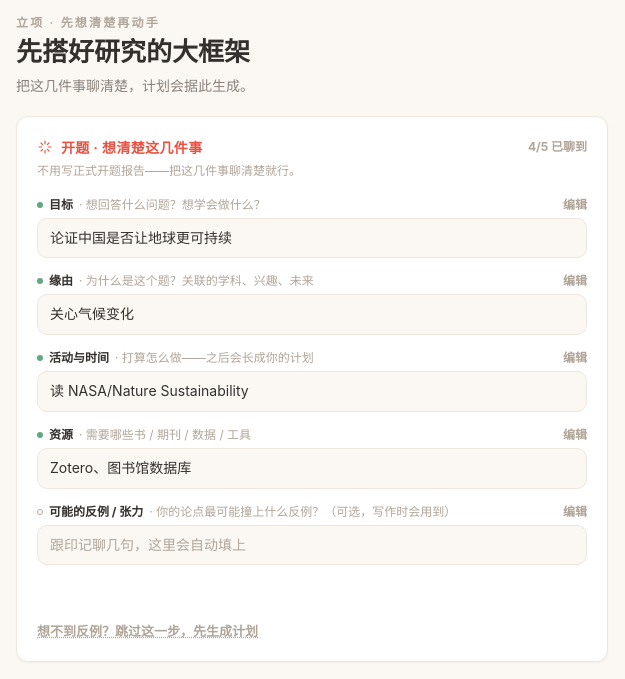
Test: PlanBlock · forming coach on the shared AiPanel (Task 5) › Round 3: reframed as research-framing — no 让印记看看我的开题/导出开题报告 buttons, DimFields still work
(page scrolled)
Expected: the heading "先搭好研究的大框架" is shown, left=16, top=36, right=250, bottom=67
Click the button "编辑" in the row of "想回答什么问题？想学会做什么？".
click(575, 204)  # box left=563, top=196, right=587, bottom=214
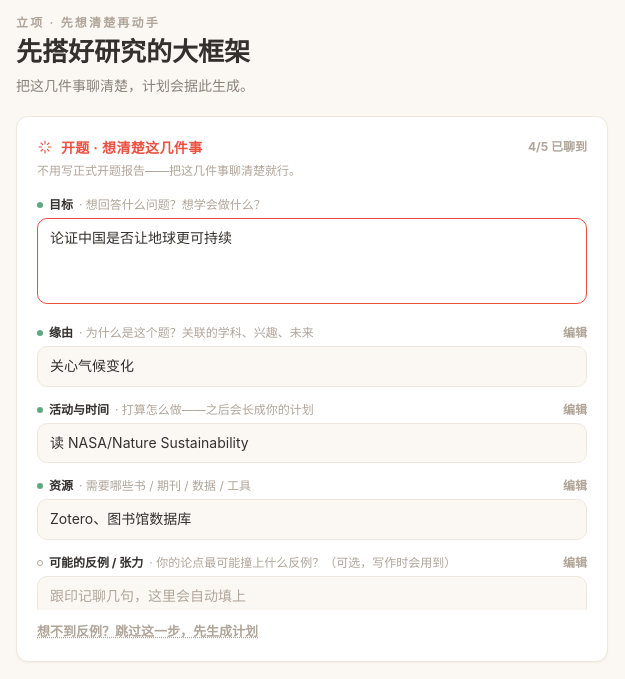
Now the text box with placeholder "跟印记聊几句，这里会自动填上" is shown, box left=37, top=218, right=587, bottom=304
